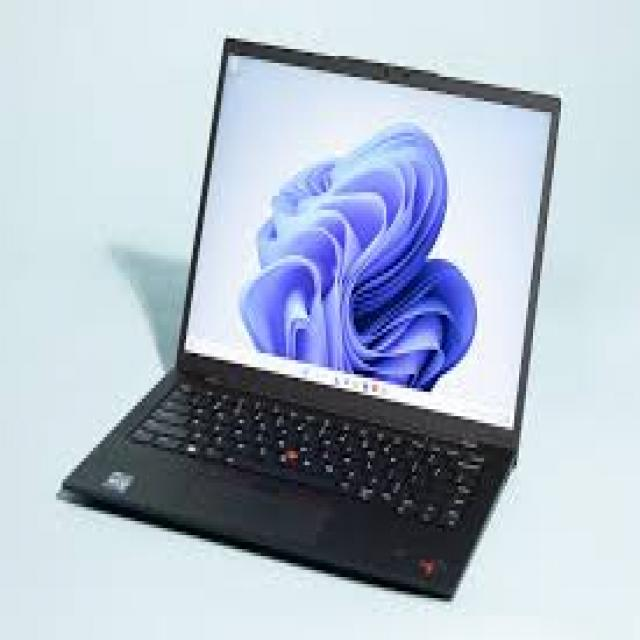others: (58, 32, 575, 598)
